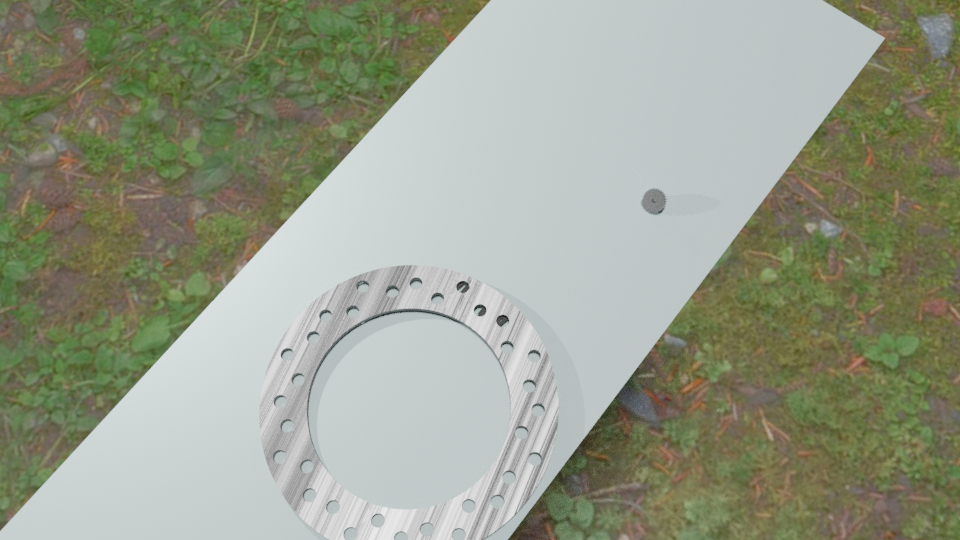yamaha_letters: (455, 280, 509, 327)
